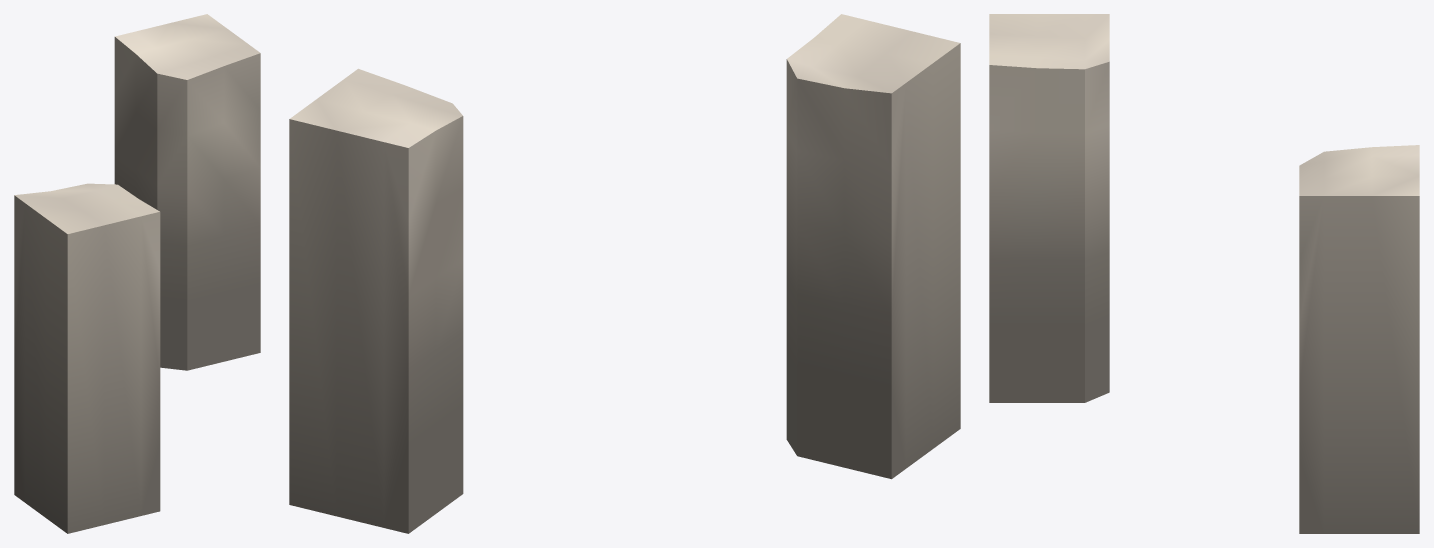
File: SM_VKI_Rock_Cave_COCO_WallSEN.fbx
The picture shows the model from 3 angles, left to right: view 1: azimuth 30°, elevation 25°; view 2: azimuth 150°, elevation 25°; view 3: azimuth 270°, elevation 25°; orthographic projection. The views are drawn at different scales.
Parts seen in each view (by area): view 1: SM_VKI_Rock_Cave_COCO_WallSEN.001; view 2: SM_VKI_Rock_Cave_COCO_WallSEN.001; view 3: SM_VKI_Rock_Cave_COCO_WallSEN.001.
Boxes of the visible parts, left/top/right/bottom form: SM_VKI_Rock_Cave_COCO_WallSEN.001: left=14, top=14, right=260, bottom=533; SM_VKI_Rock_Cave_COCO_WallSEN.001: left=289, top=14, right=960, bottom=533; SM_VKI_Rock_Cave_COCO_WallSEN.001: left=989, top=14, right=1419, bottom=533.
Bounding box in the file's own units: 1.5 × 1.3 × 1.5.
